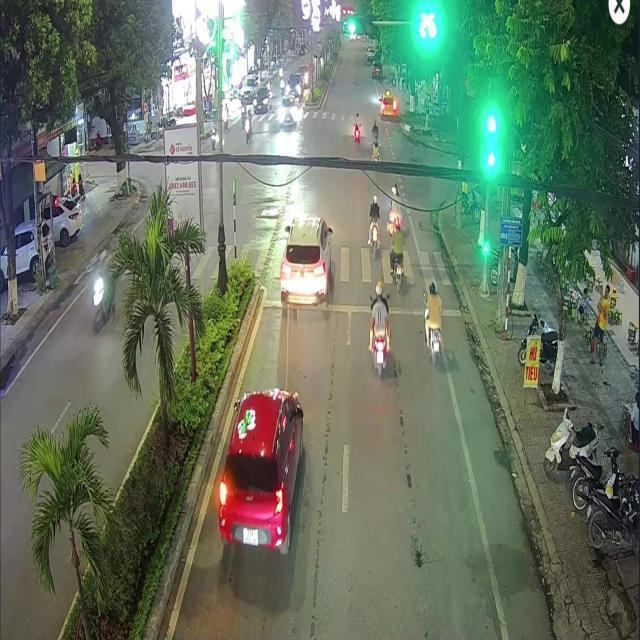car: (217, 387, 302, 552), (279, 214, 331, 303), (379, 90, 397, 117)
green_light: (346, 15, 373, 36), (486, 132, 495, 168), (483, 233, 487, 251)
motobike: (370, 335, 388, 377), (425, 327, 440, 364), (393, 257, 403, 293), (368, 221, 378, 257), (353, 124, 360, 142)
stop_line: (263, 299, 460, 315)
